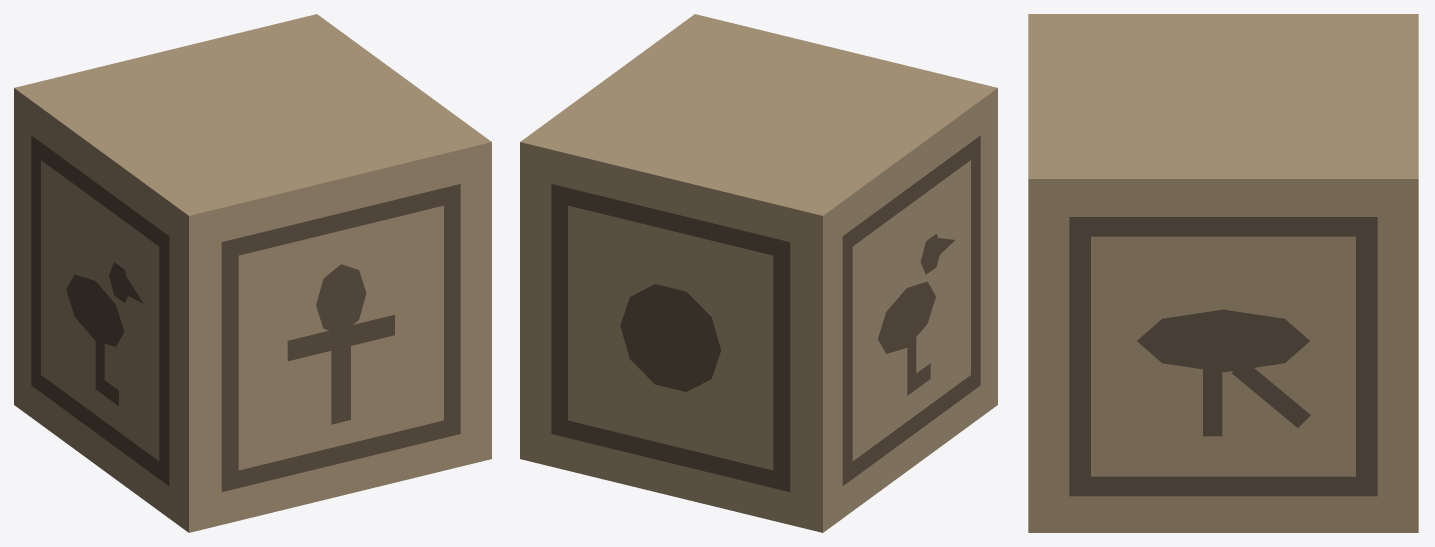
Rendered from block_push.glb.
3 renders of one model, left to right at view 1: azimuth 30°, elevation 25°; view 2: azimuth 150°, elevation 25°; view 3: azimuth 270°, elevation 25°, orthographic. The views are drawn at different scales.
Visible parts, largest first — view 1: block_push; view 2: block_push; view 3: block_push.
Boxes of the visible parts, bbox=[...] form: block_push: bbox=[14, 14, 491, 532]; block_push: bbox=[520, 14, 997, 532]; block_push: bbox=[1028, 14, 1418, 532].
Size of the model in its own units: 0.908 by 0.9 by 0.908.
